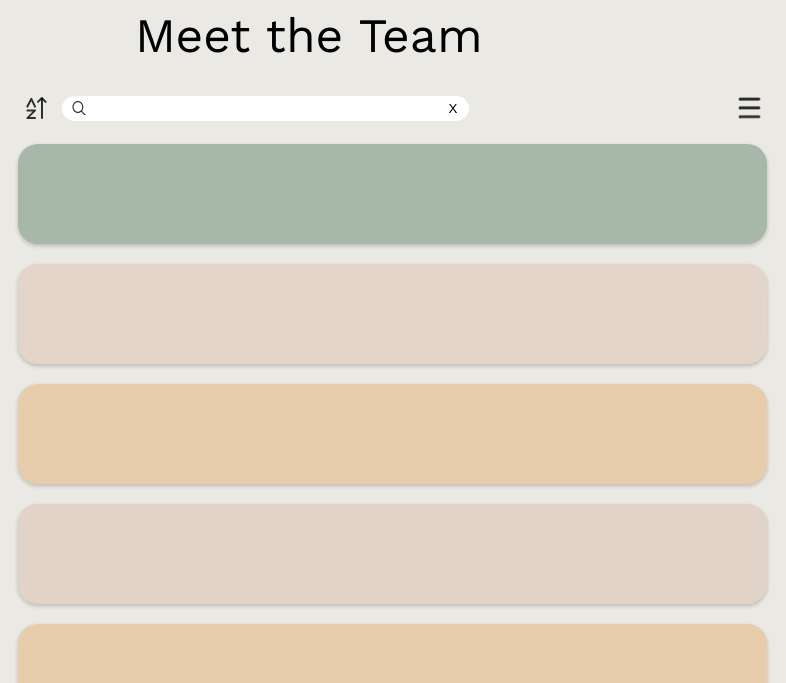
Test: if click view swither icon, you should see thumbnailCards
This screenshot has width=786, height=683.
Expected: the button with test id "sort" is shown, top-left (18, 96), bottom-right (58, 124)
Click the button with test id "switcher" at (664,110), box top-left (562, 96), bottom-right (766, 124)
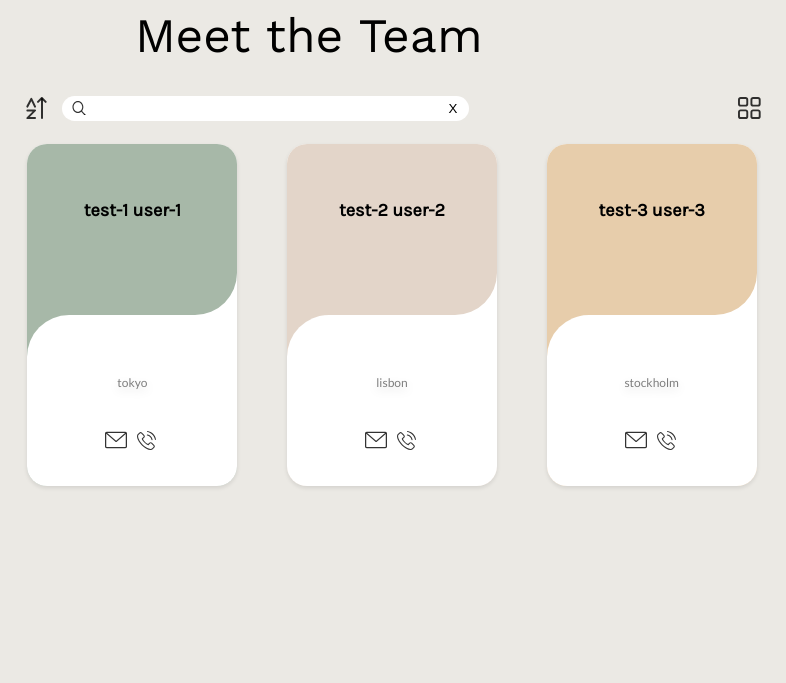
Expected: the element with test id "thumbnail-card-1" reads "test-1 user-1", top-left (27, 144), bottom-right (237, 486)
